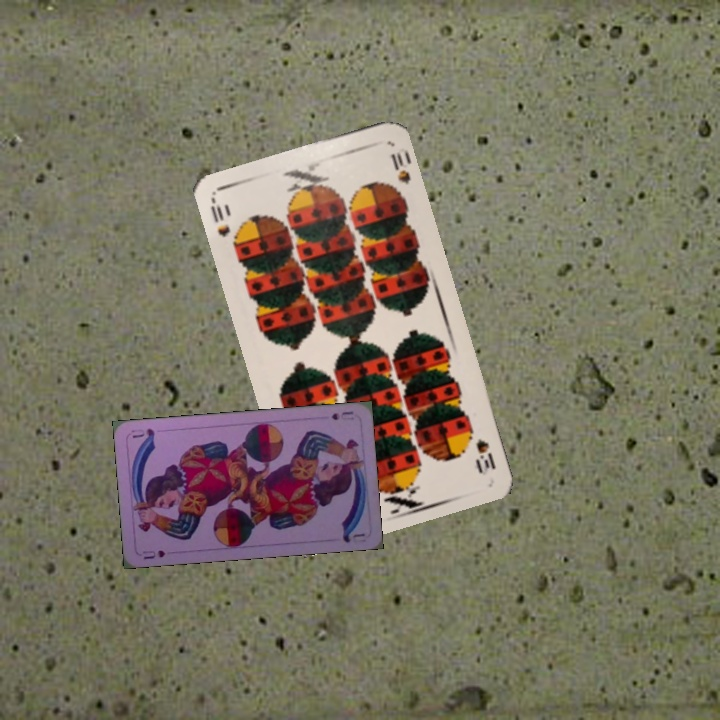S10: (206, 196, 241, 251), (472, 434, 499, 478)
SU: (139, 546, 168, 562), (328, 407, 356, 423)
